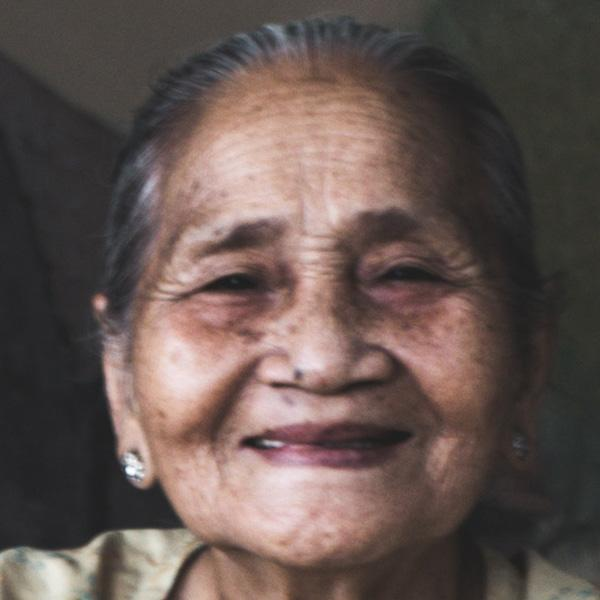Eyes: (354, 244, 466, 307), (181, 251, 280, 316)
